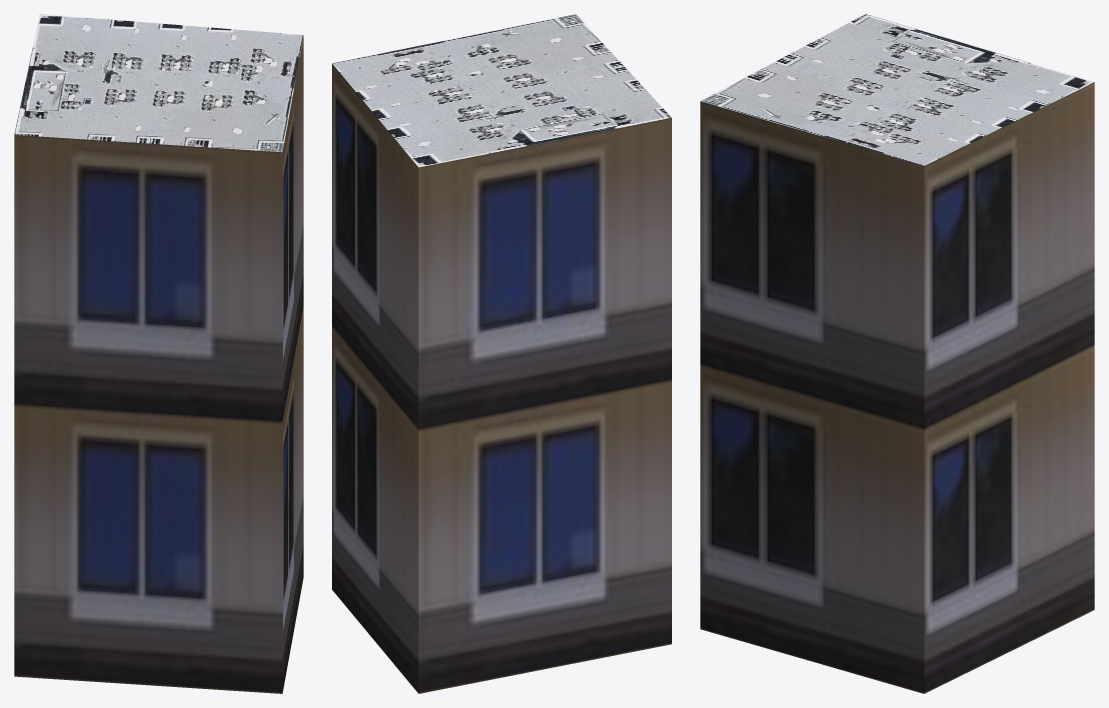
Rendered from ResTex__4015.fbx.
The picture shows the model from 3 angles, left to right: view 1: azimuth 30°, elevation 25°; view 2: azimuth 150°, elevation 25°; view 3: azimuth 270°, elevation 25°; orthographic projection. The views are drawn at different scales.
Visible parts, largest first — view 1: CityEngineMaterial_5_m, CityEngineMaterial_4_m; view 2: CityEngineMaterial_5_m, CityEngineMaterial_4_m; view 3: CityEngineMaterial_5_m, CityEngineMaterial_4_m.
Boxes of the visible parts, x1,y1,x2,y2 form: CityEngineMaterial_5_m: (14,37,303,693); CityEngineMaterial_4_m: (14,14,303,152); CityEngineMaterial_5_m: (332,63,671,693); CityEngineMaterial_4_m: (332,14,671,167); CityEngineMaterial_5_m: (700,82,1094,693); CityEngineMaterial_4_m: (700,14,1093,165).
Bounding box in the file's own units: 3.7 × 6 × 4.06.
2 materials, 2 textured.
